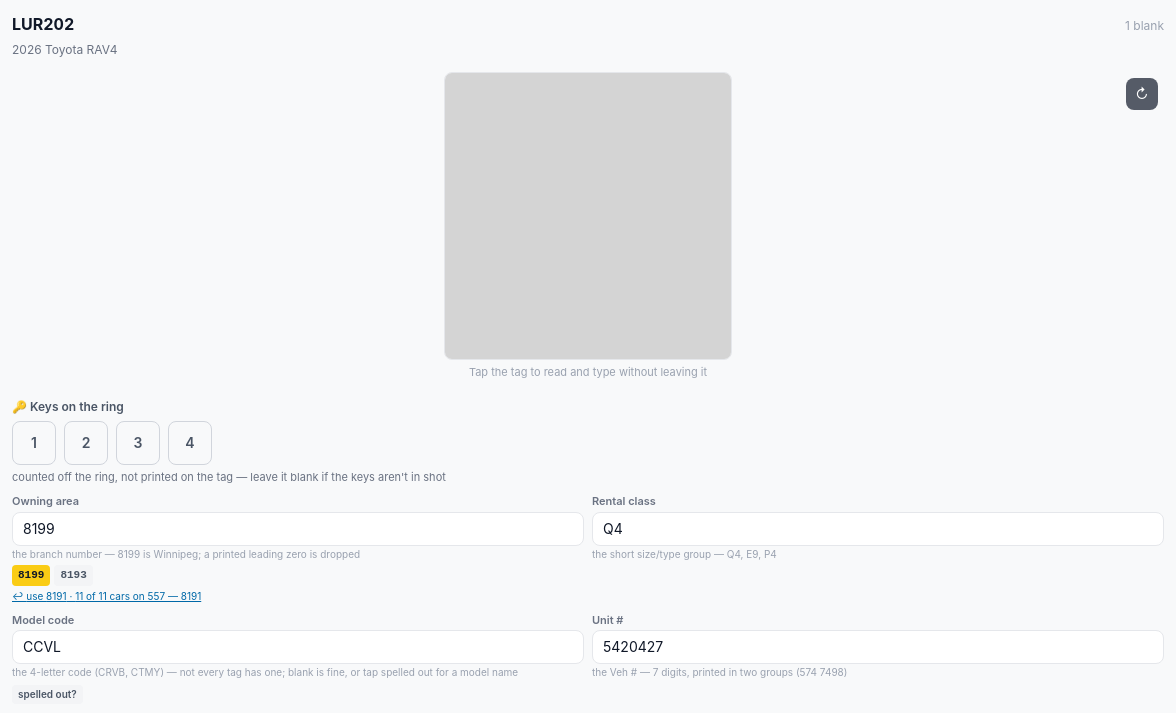
Test: KeytagAuditCard — the owning-area suggestion › replaces the value only when he taps
Expected: the field labelled "Owning area" holds "8199", [12, 512, 584, 546]
Click the button "↩ use 8191 · 11 of 11 cars on 557 — 8191": (107, 597) [12, 590, 201, 604]
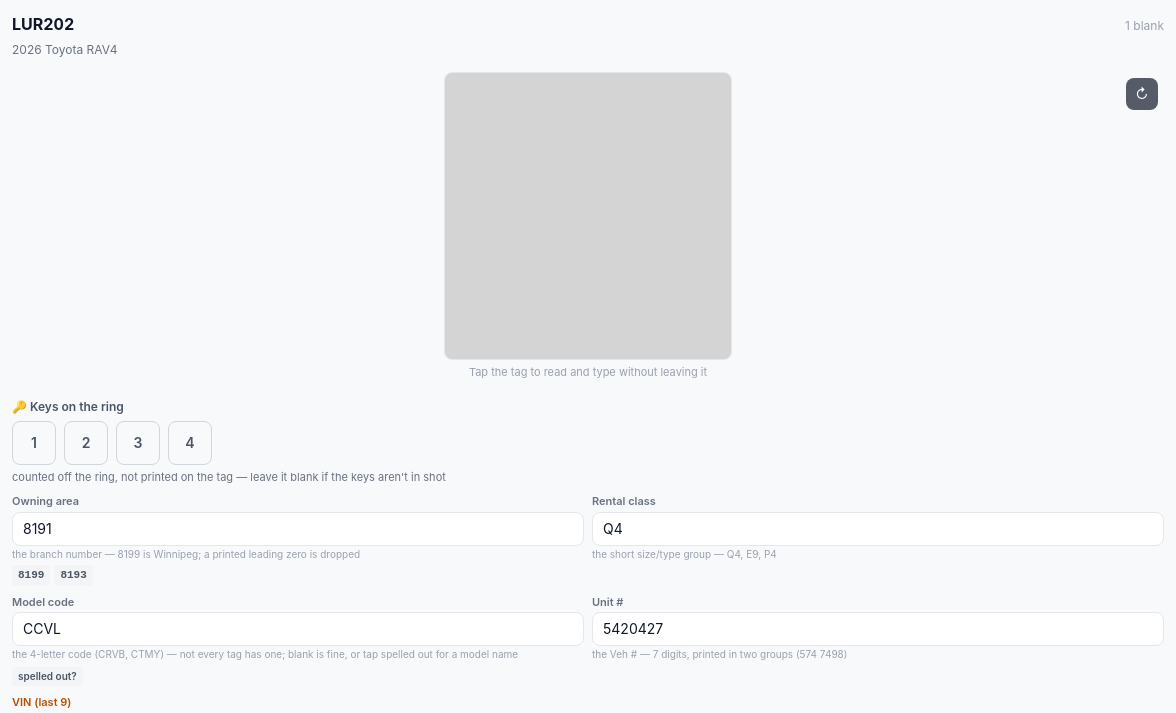
Expected: the field labelled "Owning area" holds "8191", [12, 512, 584, 546]
